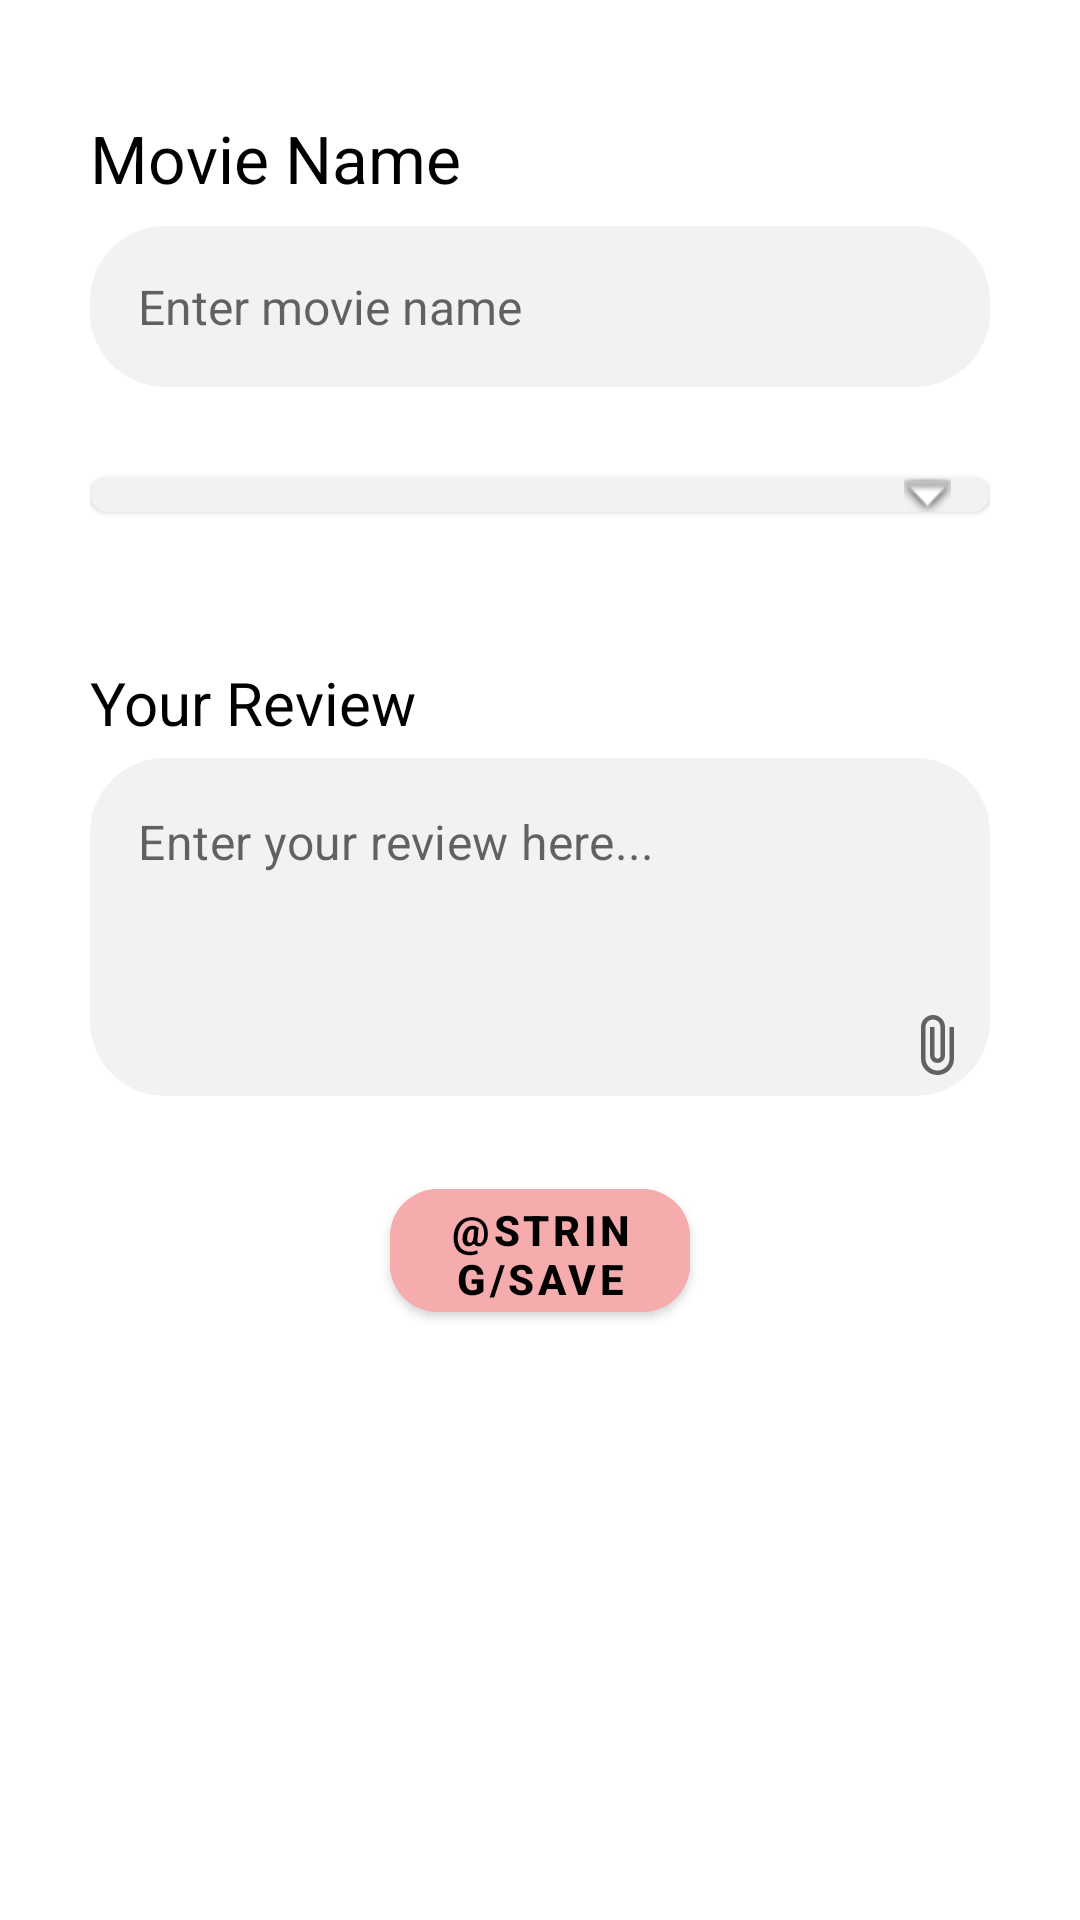

Icons on this 1080px×1920px Android screen, each with its box as box(x1, y1, x2, y2):
arrow down float: box(904, 479, 951, 511)
Attach Picture: box(921, 1015, 954, 1075)
